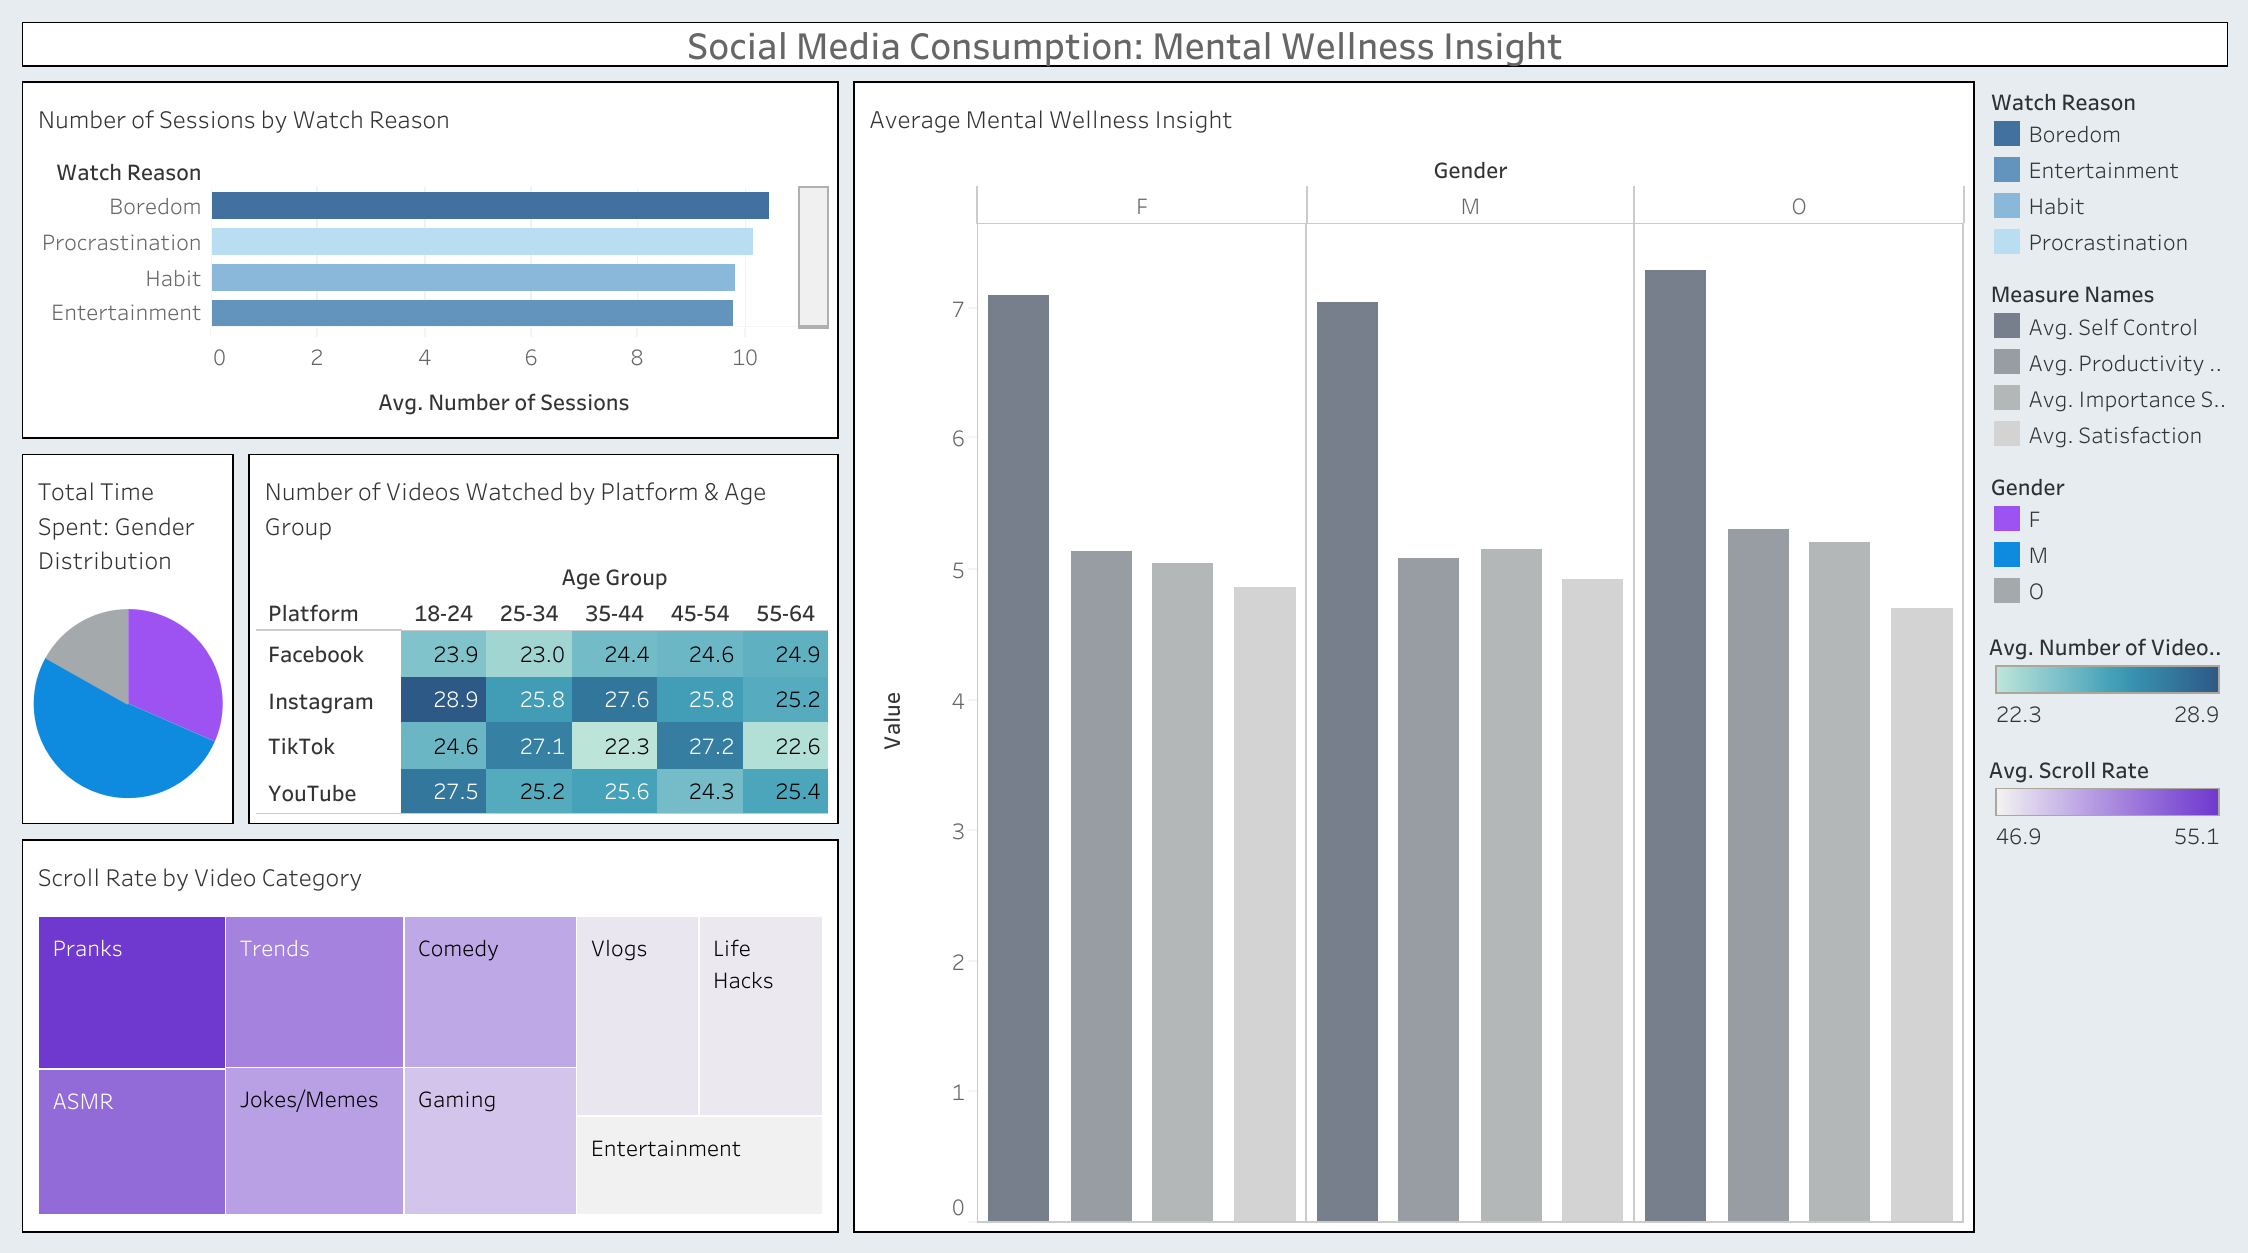

The page's visual inventory and layout, read from the dashboard file:
{"tool":"tableau","page":{"name":"Social Media Consumption: Mental Wellness Insight Dashboard","canvas":[1000,1000],"units":"permille","ordinal":2},"visuals":[{"type":"text","box":[6.5,11.8,987,47.3]},{"type":"worksheet","title":"Number of Sessions by Watch Reason","mark":"Automatic","rows":["Watch Reason"],"cols":["Number of Sessions"],"box":[6.5,59.2,375.9,306.2]},{"type":"worksheet","title":"Mental Wellness Metrics by Gender","mark":"Automatic","cols":["Gender"],"box":[382.4,59.2,496.2,929]},{"type":"legend","title":"Number of Sessions by Watch Reason","param":"[federated.15p88yj12m8l1z1fck2071ewibt9].[none:Watch Reason:nk]","box":[878.7,59.2,114.7,156.8]},{"type":"legend","title":"Mental Wellness Metrics by Gender","param":"[federated.15p88yj12m8l1z1fck2071ewibt9].[:Measure Names]","box":[878.7,216,114.7,156.8]},{"type":"worksheet","title":"Who's Spending More Time? A Gender Breakdown","mark":"Pie","box":[6.5,365.4,102.5,316.6]},{"type":"worksheet","title":"Number of Videos Watched by Platform & Age Group","mark":"Square","rows":["Platform"],"cols":["Calculation_4163014935404101633"],"box":[109,365.4,273.4,316.6]},{"type":"legend","title":"Who's Spending More Time? A Gender Breakdown","param":"[federated.15p88yj12m8l1z1fck2071ewibt9].[none:Gender:nk]","box":[878.7,372.8,114.7,127.2]},{"type":"legend","title":"Number of Videos Watched by Platform & Age Group","param":"[federated.15p88yj12m8l1z1fck2071ewibt9].[avg:Number of Videos Watched:qk]","box":[878.7,500,114.7,96.2]},{"type":"legend","title":"Scroll Rate by Video Categoryt 11","param":"[federated.15p88yj12m8l1z1fck2071ewibt9].[avg:Scroll Rate:qk]","box":[878.7,596.1,114.7,96.2]},{"type":"worksheet","title":"Scroll Rate by Video Categoryt 11","mark":"Automatic","box":[6.5,681.9,375.9,306.2]}]}

Visuals, with their boxes on the dashboard's canvas, which has no fixed pixel size, in thousandths of its width and height (x1, y1, x2, y2). These are canvas units, not pixel positions in the 2248x1253 screenshot, which may show the page scaled, cropped or inside an application window:
text: [x1=6, y1=12, x2=994, y2=59]
"Number of Sessions by Watch Reason" worksheet: [x1=6, y1=59, x2=382, y2=365]
"Mental Wellness Metrics by Gender" worksheet: [x1=382, y1=59, x2=879, y2=988]
"Number of Sessions by Watch Reason" legend: [x1=879, y1=59, x2=993, y2=216]
"Mental Wellness Metrics by Gender" legend: [x1=879, y1=216, x2=993, y2=373]
"Who's Spending More Time? A Gender Breakdown" worksheet (Pie marks): [x1=6, y1=365, x2=109, y2=682]
"Number of Videos Watched by Platform & Age Group" worksheet (Square marks): [x1=109, y1=365, x2=382, y2=682]
"Who's Spending More Time? A Gender Breakdown" legend: [x1=879, y1=373, x2=993, y2=500]
"Number of Videos Watched by Platform & Age Group" legend: [x1=879, y1=500, x2=993, y2=596]
"Scroll Rate by Video Categoryt 11" legend: [x1=879, y1=596, x2=993, y2=692]
"Scroll Rate by Video Categoryt 11" worksheet: [x1=6, y1=682, x2=382, y2=988]
